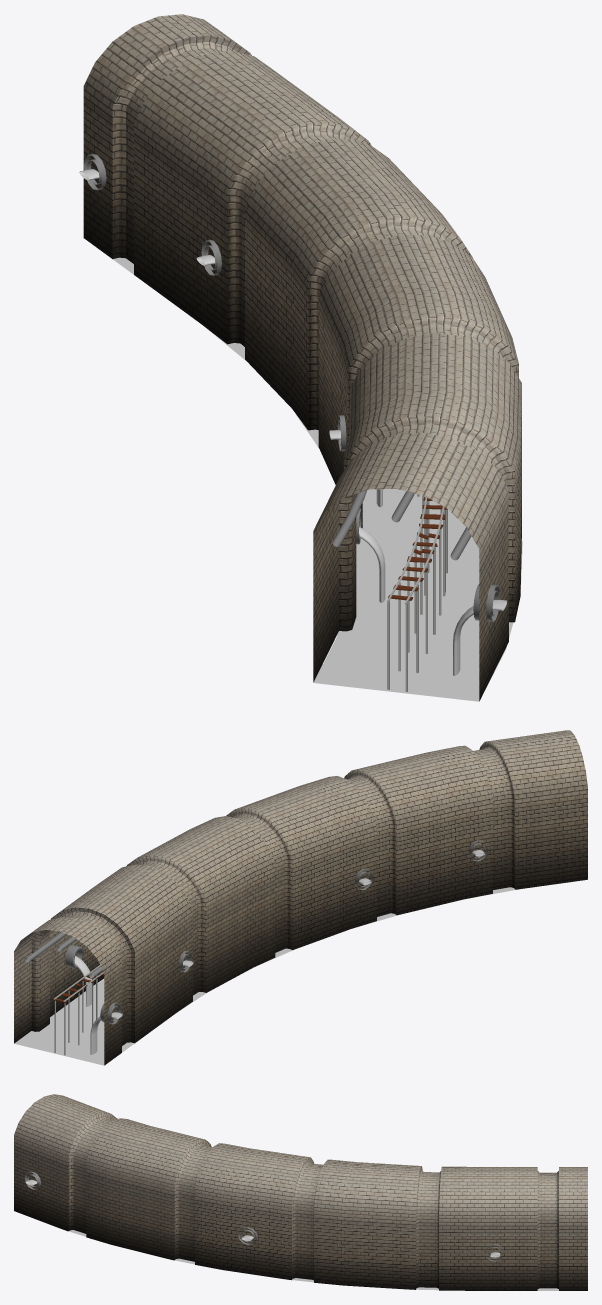
The model's file is Cave_v05.fbx.
3 views of the same model, one above another, from view 1: azimuth 30°, elevation 25°; view 2: azimuth 150°, elevation 25°; view 3: azimuth 270°, elevation 25° (orthographic). The views are drawn at different scales.
Visible parts, largest first — view 1: CaveN1Curve, polySurface1498, Cave_Water3, RailtrackN1Curve1; view 2: CaveN1Curve, polySurface1498, Cave_Water1, RailtrackN1, Cave_Water3; view 3: CaveN1Curve, polySurface1498, Cave_Water3.
Boxes of the visible parts, <box> form: CaveN1Curve: <box>196,100,521,701</box>; polySurface1498: <box>79,14,331,323</box>; Cave_Water3: <box>205,327,522,701</box>; RailtrackN1Curve1: <box>387,494,447,691</box>; CaveN1Curve: <box>85,730,587,1012</box>; polySurface1498: <box>14,877,175,1065</box>; Cave_Water1: <box>14,991,134,1065</box>; RailtrackN1: <box>53,965,104,1055</box>; Cave_Water3: <box>93,887,516,1009</box>; CaveN1Curve: <box>14,1094,469,1290</box>; polySurface1498: <box>470,1167,587,1290</box>; Cave_Water3: <box>30,1217,438,1290</box>.
Bounding box in the file's own units: 8671 × 3801 × 19434.
